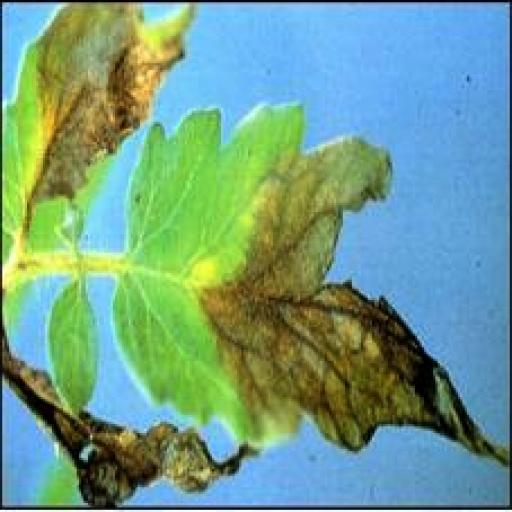disease_tomato: (2, 2, 510, 512)
